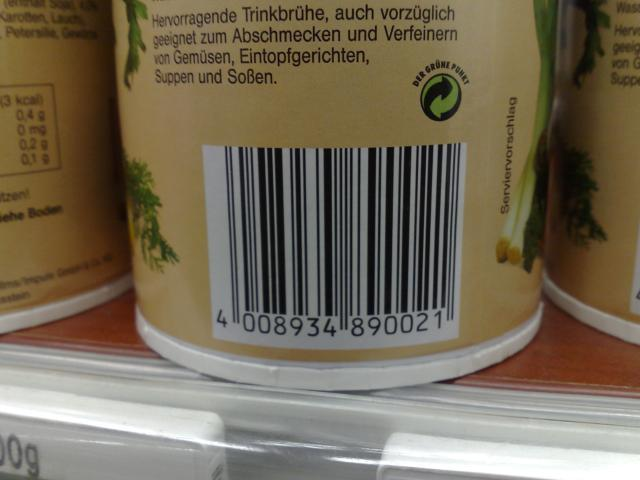Barcode: (204, 143, 467, 349)
